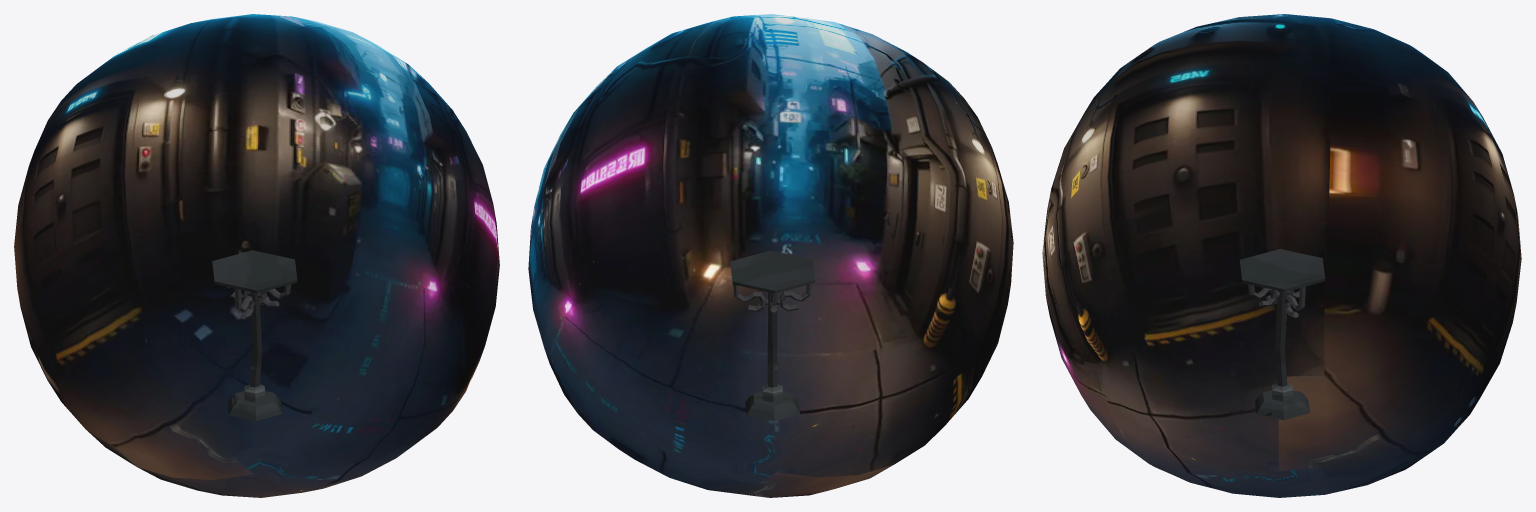
Rendered from roomOnly.glb.
The picture shows the model from 3 angles, left to right: view 1: azimuth 30°, elevation 25°; view 2: azimuth 150°, elevation 25°; view 3: azimuth 270°, elevation 25°; orthographic projection.
Parts seen in each view (by area): view 1: Room, Candle_Stand; view 2: Room, Candle_Stand; view 3: Room, Candle_Stand.
Boxes of the visible parts, x1,y1,x2,y2 form: Room: (14,14,499,497); Candle_Stand: (212,250,297,420); Room: (528,14,1013,497); Candle_Stand: (730,250,815,421); Room: (1042,14,1521,497); Candle_Stand: (1239,249,1324,420).
Bounding box in the file's own units: 24.43 × 24.43 × 24.44.
Materials: 2 (2 with a texture image).
